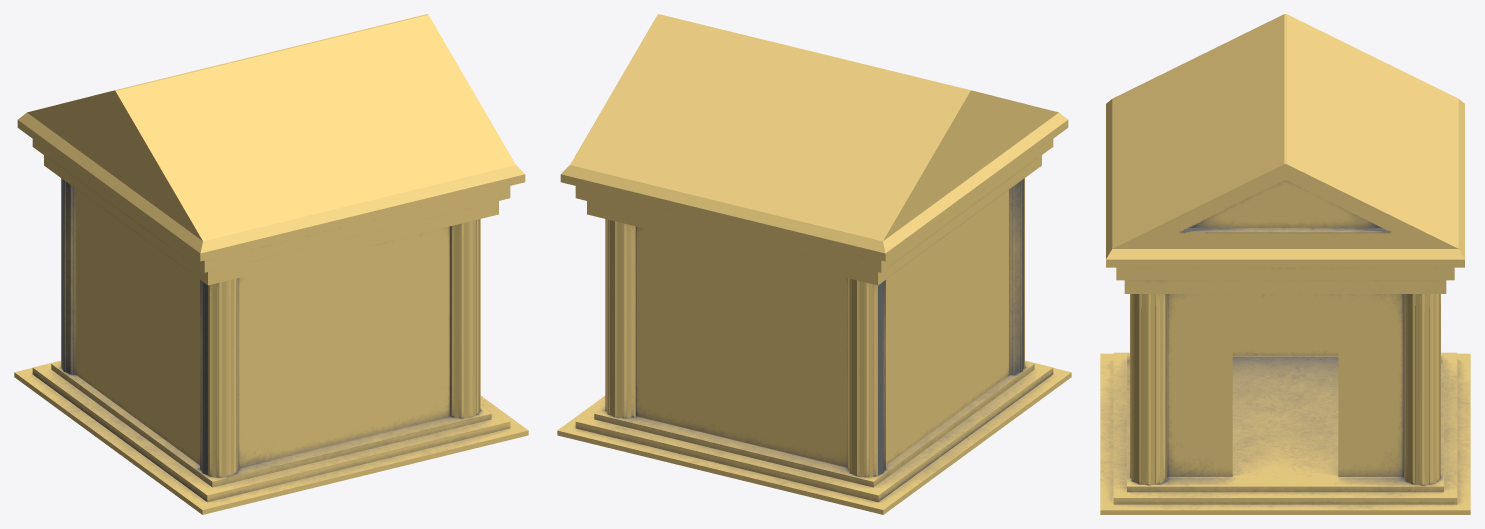
The model's file is Barrack Age 3.fbx.
3 renders of one model, left to right at view 1: azimuth 30°, elevation 25°; view 2: azimuth 150°, elevation 25°; view 3: azimuth 270°, elevation 25°, orthographic.
Parts seen in each view (by area): view 1: Barrack_Age_3; view 2: Barrack_Age_3; view 3: Barrack_Age_3.
Boxes of the visible parts, x1,y1,x2,y2 form: Barrack_Age_3: [14, 14, 528, 514]; Barrack_Age_3: [557, 14, 1071, 514]; Barrack_Age_3: [1100, 14, 1470, 514].
Size of the model in its own units: 532 by 551 by 532.
Materials: 1 (1 with a texture image).
